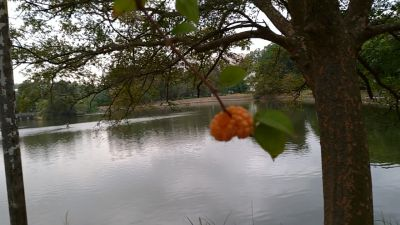eggs: (209, 105, 254, 145)
